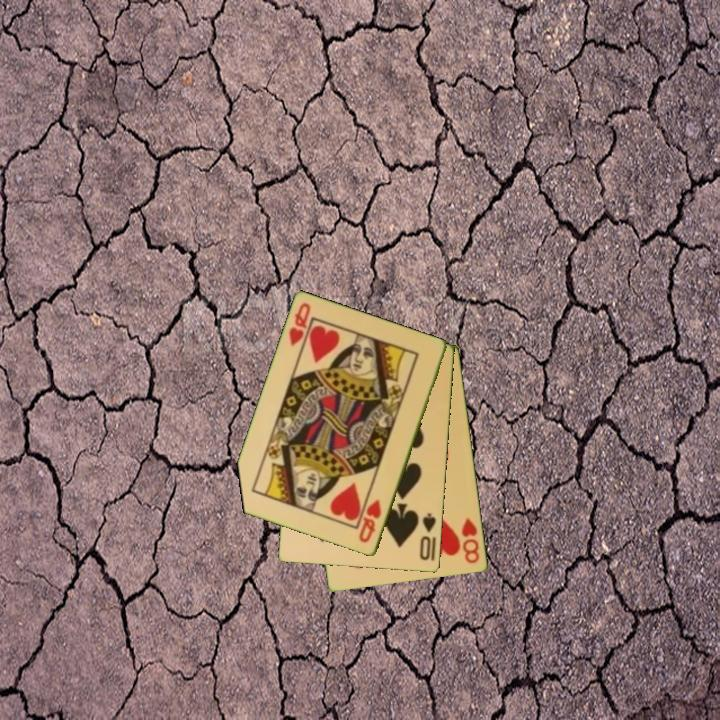10s: (416, 510, 439, 563)
8h: (458, 515, 482, 566)
Qh: (355, 496, 384, 546), (286, 300, 314, 350)
